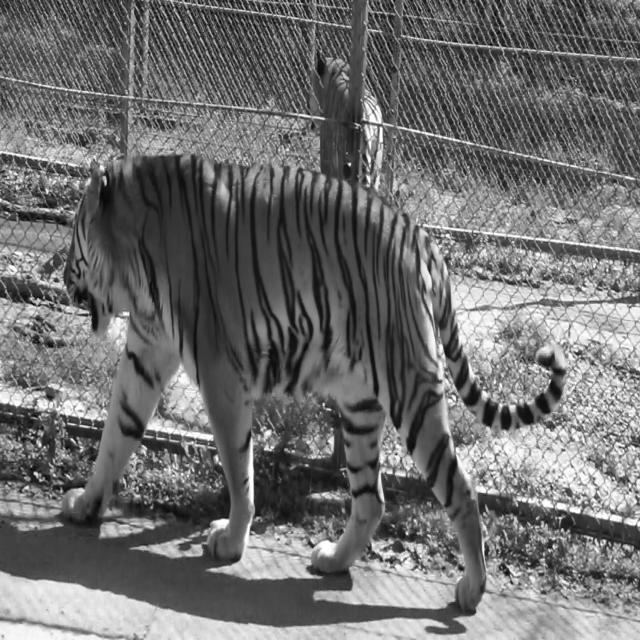Buffalo: (308, 48, 384, 193)
Tiger: (61, 151, 567, 615)
